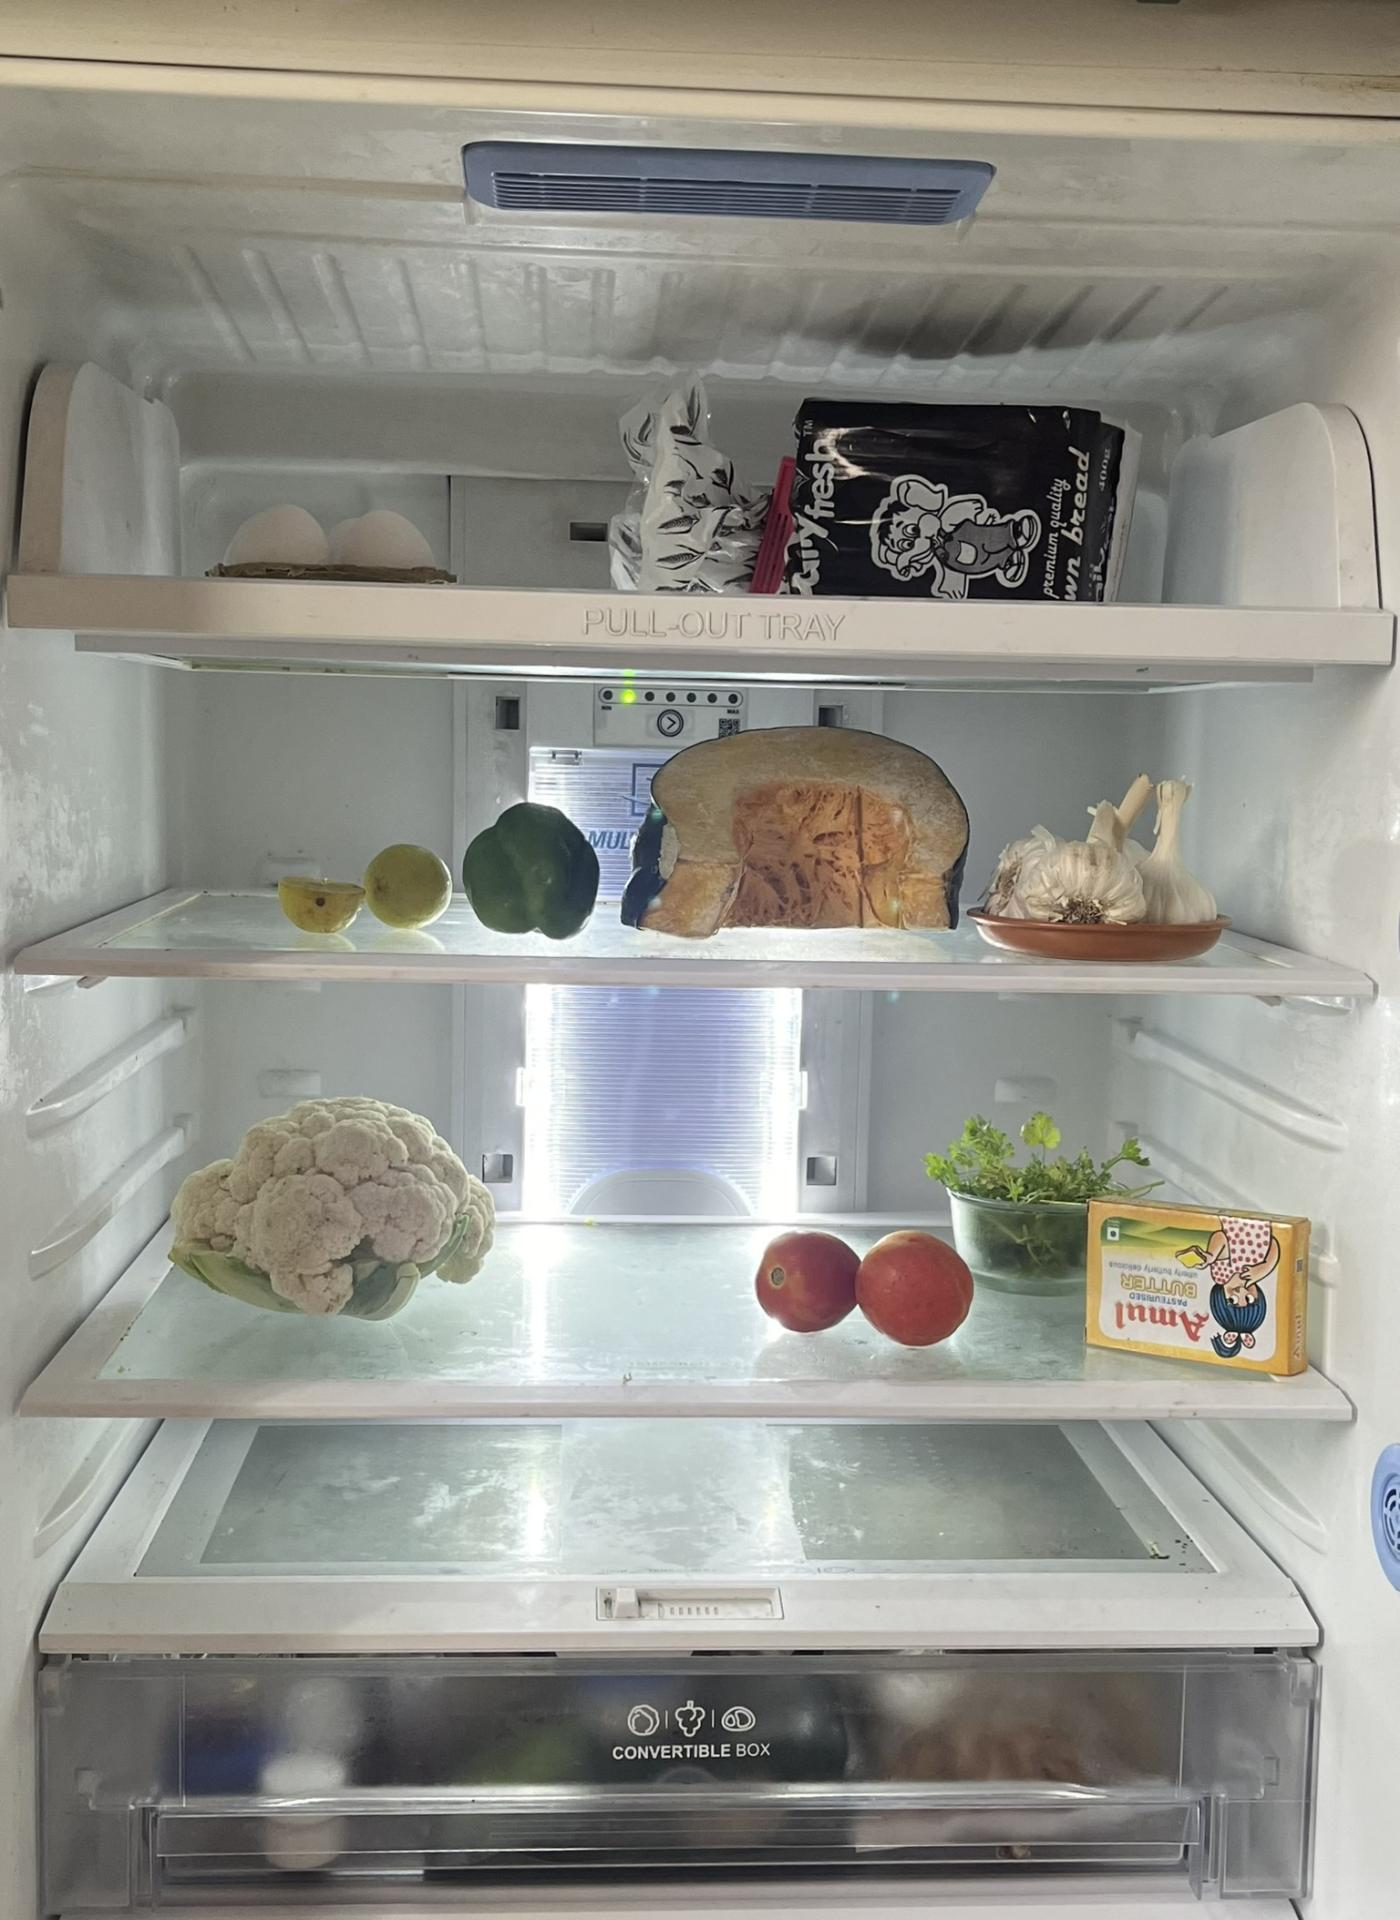bread: (619, 385, 1136, 593)
butter: (1082, 1203, 1317, 1382)
capsicum: (461, 792, 602, 935)
cauliflower: (165, 1087, 496, 1315)
coriander: (930, 1103, 1154, 1273)
egg: (219, 504, 440, 584)
garlic: (1000, 768, 1221, 933)
lemon: (274, 832, 464, 933)
pumpkin: (629, 736, 969, 930)
tomato: (757, 1224, 978, 1348)
